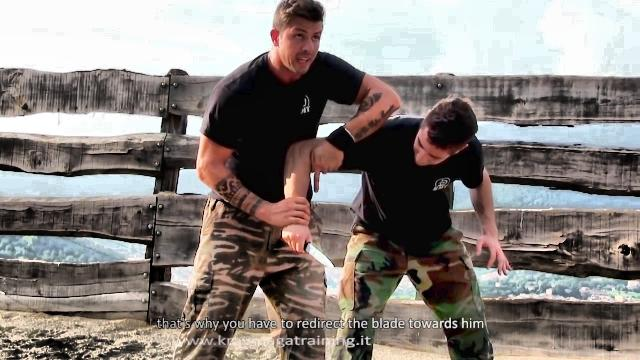knife: (280, 226, 338, 272)
